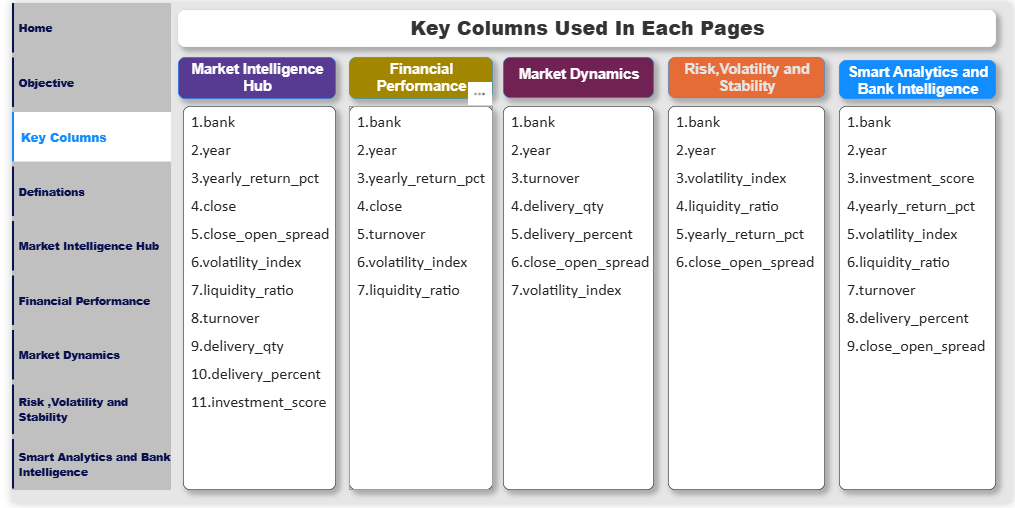

Layout of this report page (visuals, bound fields, positions):
{"tool":"powerbi","page":{"name":"Key Columns","canvas":[2000,1000],"ordinal":2},"visuals":[{"type":"textbox","title":"Key Columns Used In Each Pages","box":[332,14,1636,74],"z":0},{"type":"textbox","title":"Market Intelligence Hub","box":[332,108,316,84],"z":1000},{"type":"textbox","box":[342,206,306,768],"z":2000},{"type":"textbox","title":"Financial Performance","box":[674,108,288,84],"z":3000},{"type":"textbox","box":[674,206,288,768],"z":4000},{"type":"textbox","title":"Market Dynamics","box":[982,108,302,82],"z":5000},{"type":"textbox","box":[982,206,302,768],"z":6000},{"type":"textbox","box":[1312,206,314,768],"z":7000},{"type":"textbox","title":"Risk,Volatility and Stability","box":[1312,108,314,82],"z":8000},{"type":"textbox","title":"Smart Analytics and Bank Intelligence","box":[1654,114,314,78],"z":9000},{"type":"textbox","box":[1654,206,314,768],"z":10000},{"type":"pageNavigator","box":[0,0,318,974],"z":11000}]}

Visuals, with their boxes in screenshot pixels (x1, y1, x2, y2):
"Key Columns Used In Each Pages" textbox: (left=174, top=7, right=993, bottom=44)
"Market Intelligence Hub" textbox: (left=174, top=54, right=332, bottom=96)
textbox: (left=179, top=103, right=332, bottom=487)
"Financial Performance" textbox: (left=345, top=54, right=489, bottom=96)
textbox: (left=345, top=103, right=489, bottom=487)
"Market Dynamics" textbox: (left=499, top=54, right=651, bottom=95)
textbox: (left=499, top=103, right=651, bottom=487)
textbox: (left=665, top=103, right=822, bottom=487)
"Risk,Volatility and Stability" textbox: (left=665, top=54, right=822, bottom=95)
"Smart Analytics and Bank Intelligence" textbox: (left=836, top=57, right=993, bottom=96)
textbox: (left=836, top=103, right=993, bottom=487)
pageNavigator: (left=8, top=0, right=167, bottom=487)
